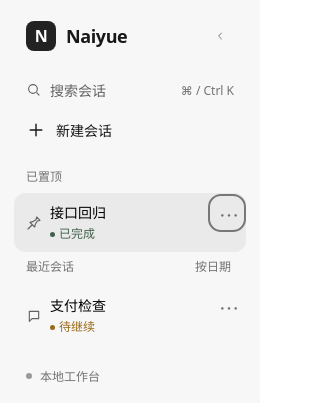
Test: closes the session menu without restoring focus to a hidden row when folding
Click the button named "接口回归的更多操作" at (227, 213), box x1=213 y1=199 x2=241 y2=227
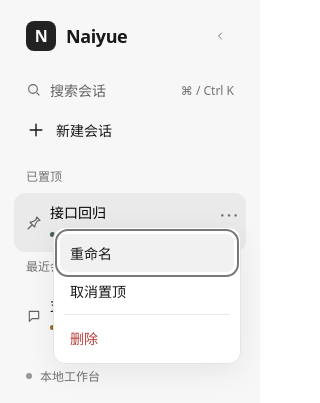
Now the menu named "会话操作" is shown, box x1=53 y1=227 x2=241 y2=364
Click the button named "收起侧栏" at (220, 36), box x1=206 y1=21 x2=234 y2=51
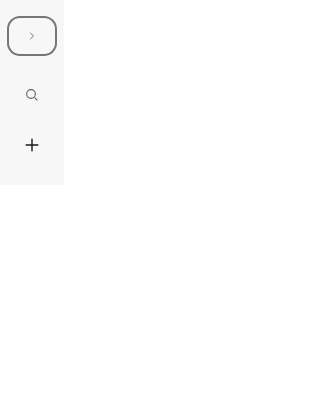
Now the menu "会话操作" is gone
